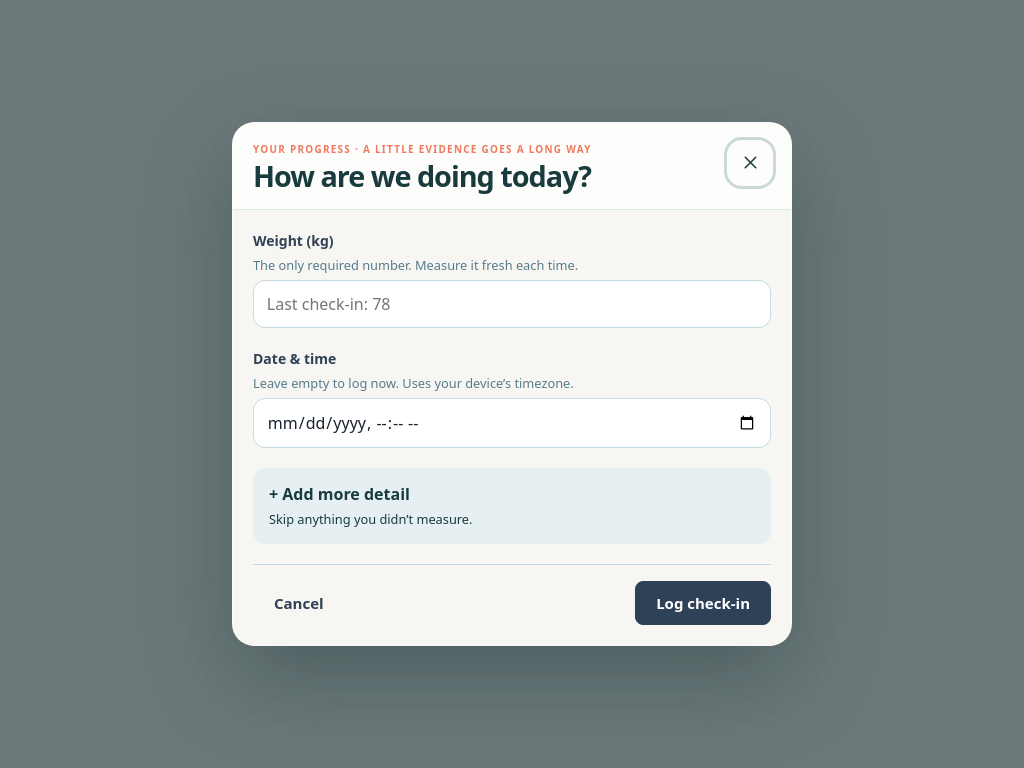
progress experience › retains the draft after a server date conflict
The width and height of the screenshot is (1024, 768).
Type "78" into the number field labelled "Weight (kg)". click: (512, 304)
box: [253, 280, 771, 328]
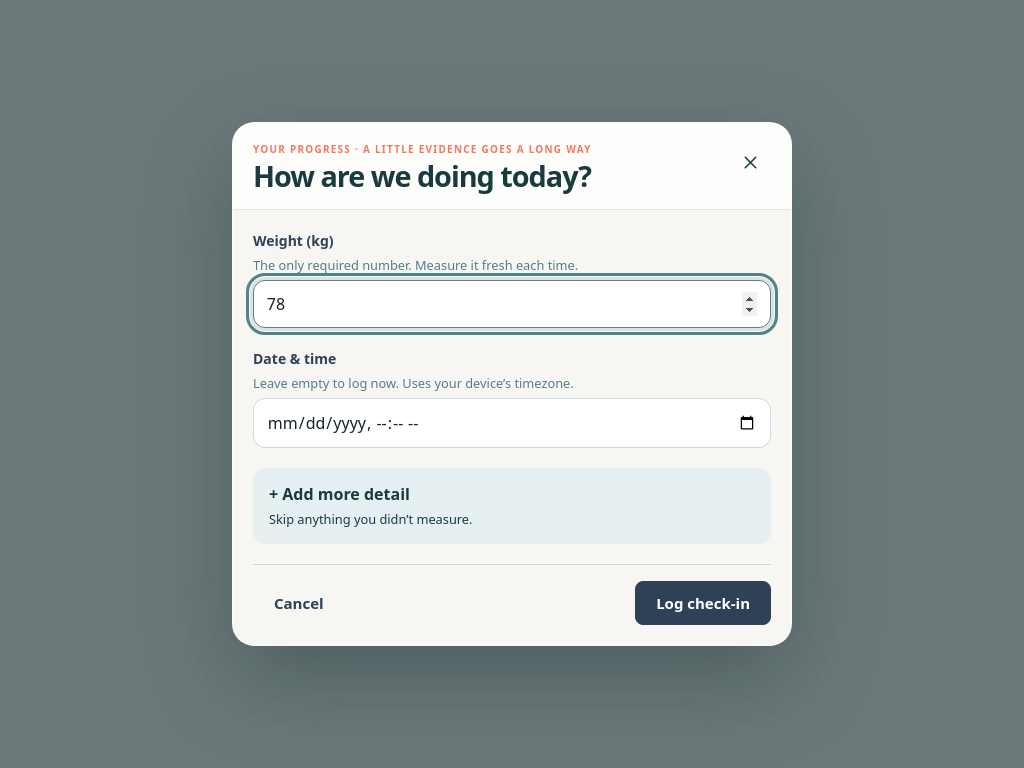
Click the button "Log check-in". click: (703, 603)
box: [635, 581, 771, 625]
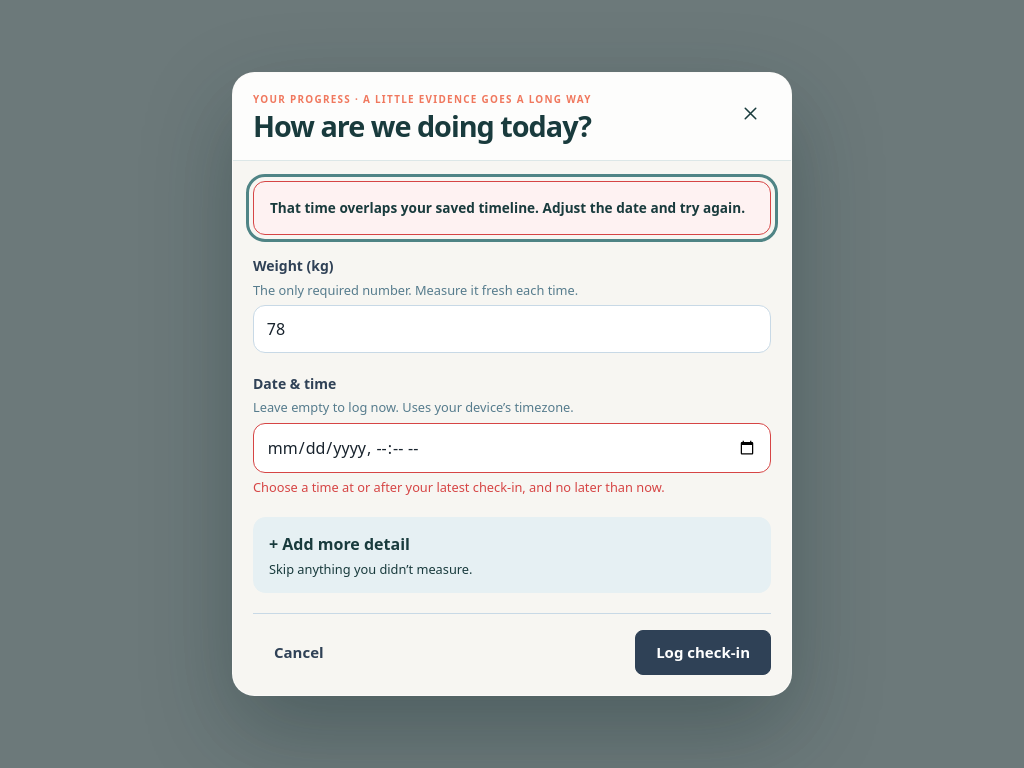
expect the message shows "overlaps your saved timeline": met, box [270, 198, 745, 217]
